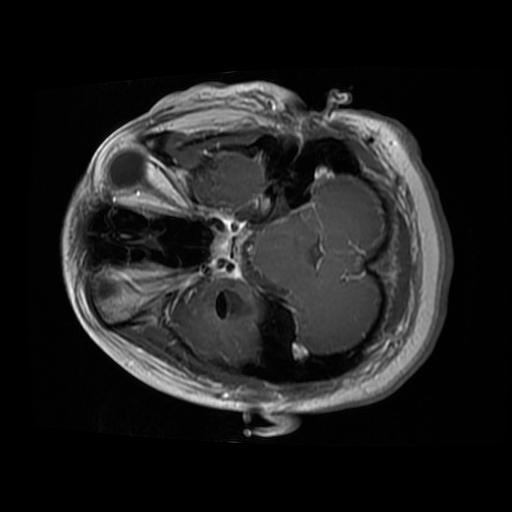glioma: (214, 285, 255, 323)
